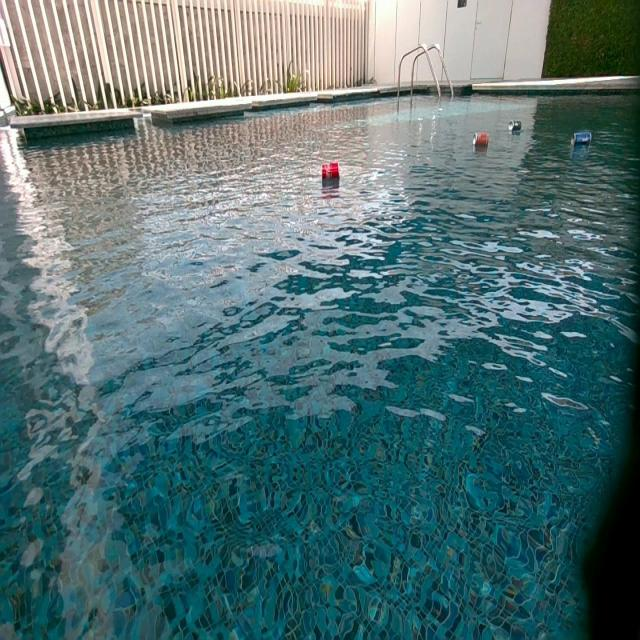Cans: (571, 131, 591, 149), (320, 163, 339, 181), (472, 132, 488, 148), (510, 119, 523, 132)
